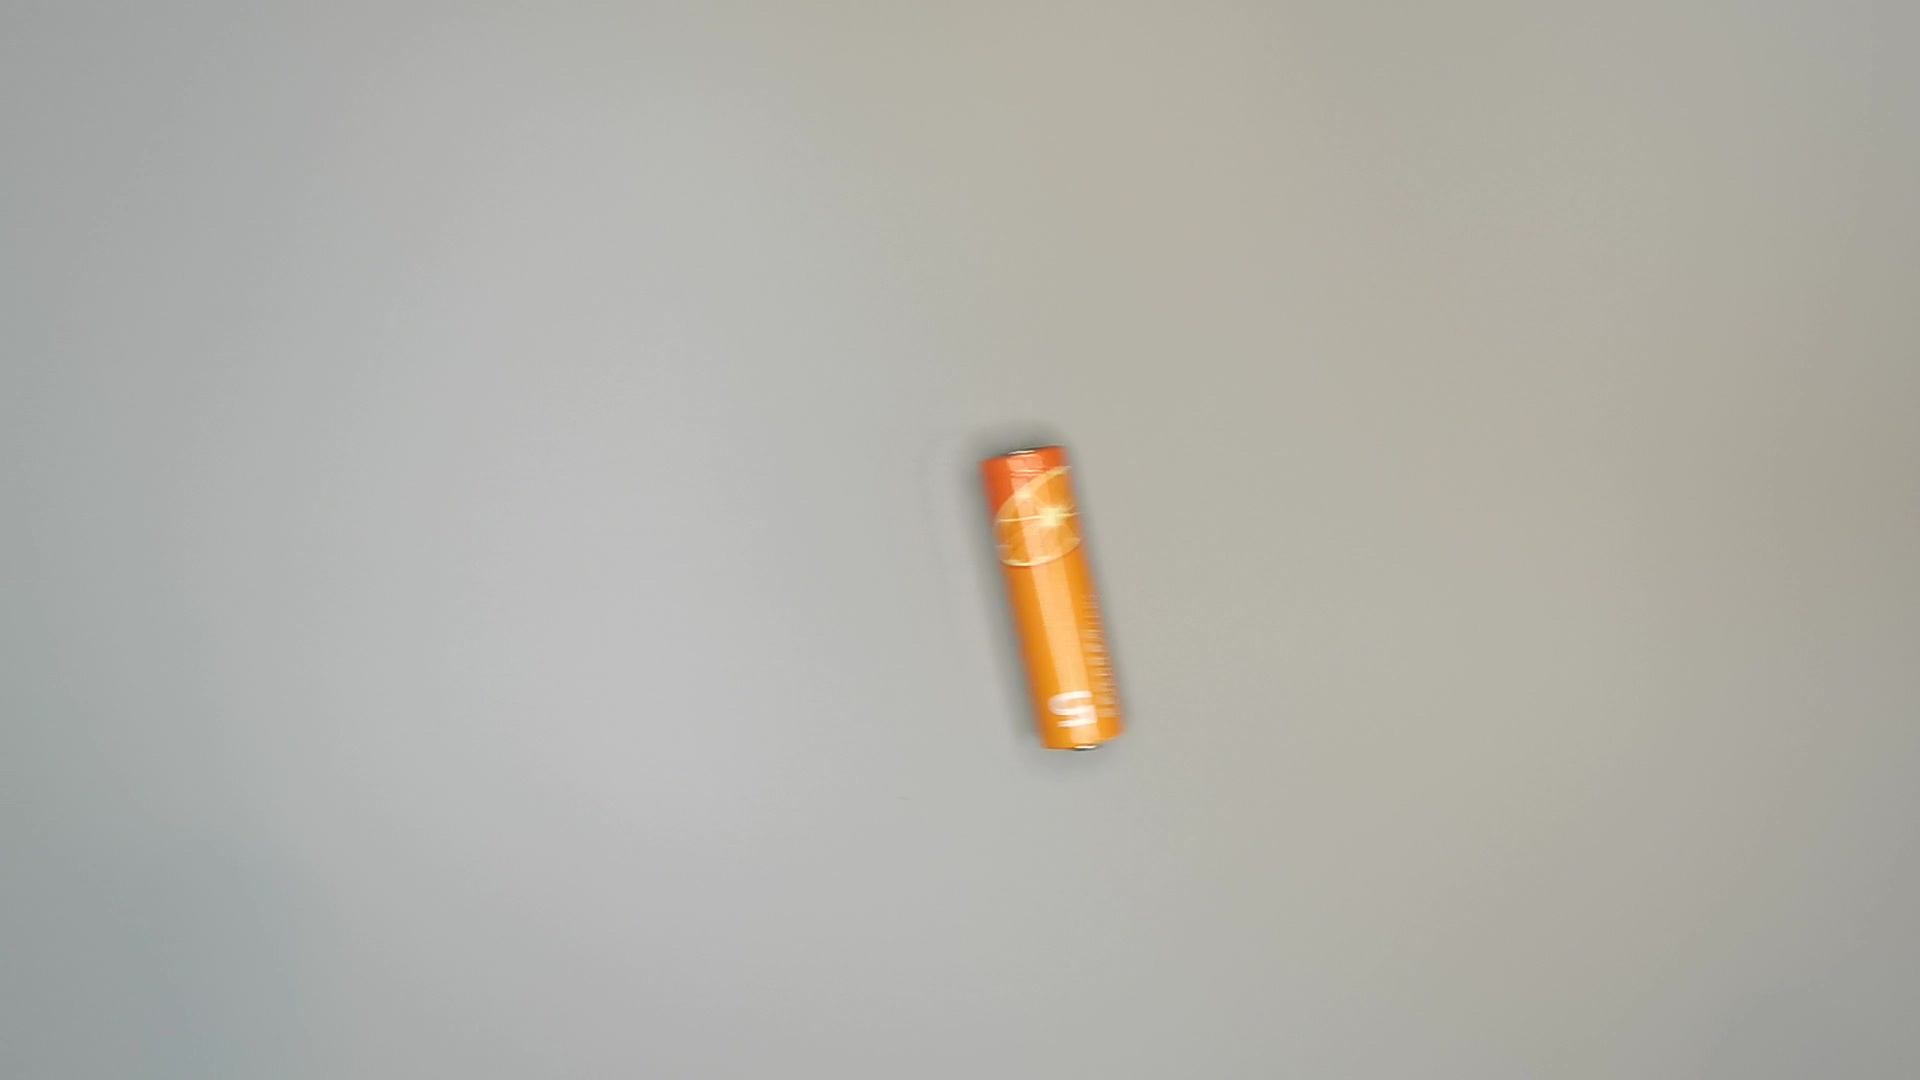battery: (975, 444, 1135, 753)
